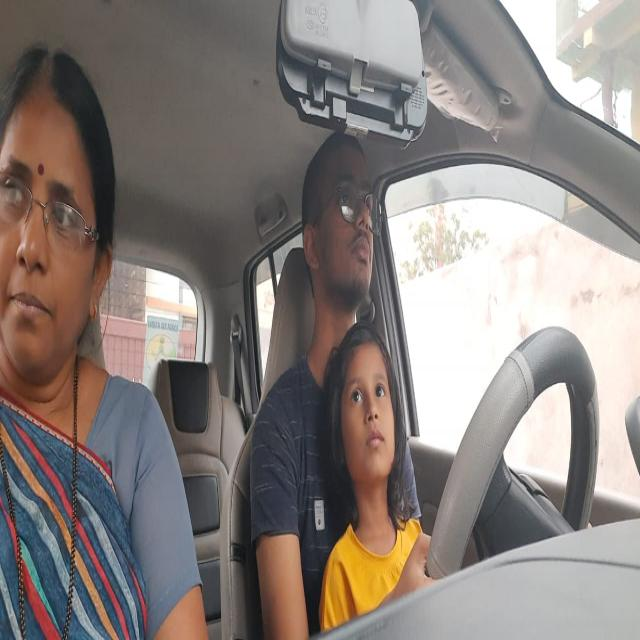child: (321, 322, 411, 487)
person: (0, 47, 115, 375), (296, 130, 388, 308)
